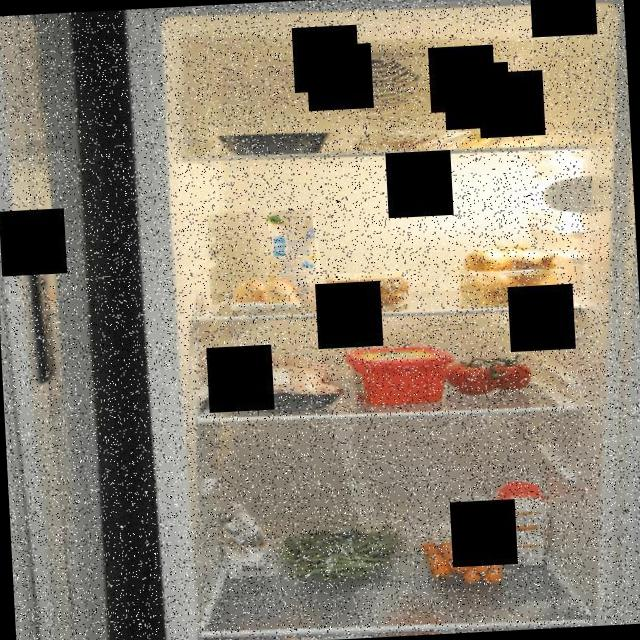Carne pollo: (218, 346, 341, 418)
Cebolla: (456, 238, 564, 309)
Gambas/Langostinos: (353, 128, 454, 156)
Huevos: (232, 274, 302, 311)
Leche: (265, 206, 323, 306)
Mantequilla: (341, 341, 453, 409)
Patata: (452, 111, 546, 152)
Tomate: (444, 350, 537, 398)
Zanahoria: (420, 522, 504, 592)
bread: (318, 268, 415, 314)
flour: (212, 505, 278, 585)
green_beans: (276, 520, 414, 588)
sugar: (489, 477, 557, 570)
